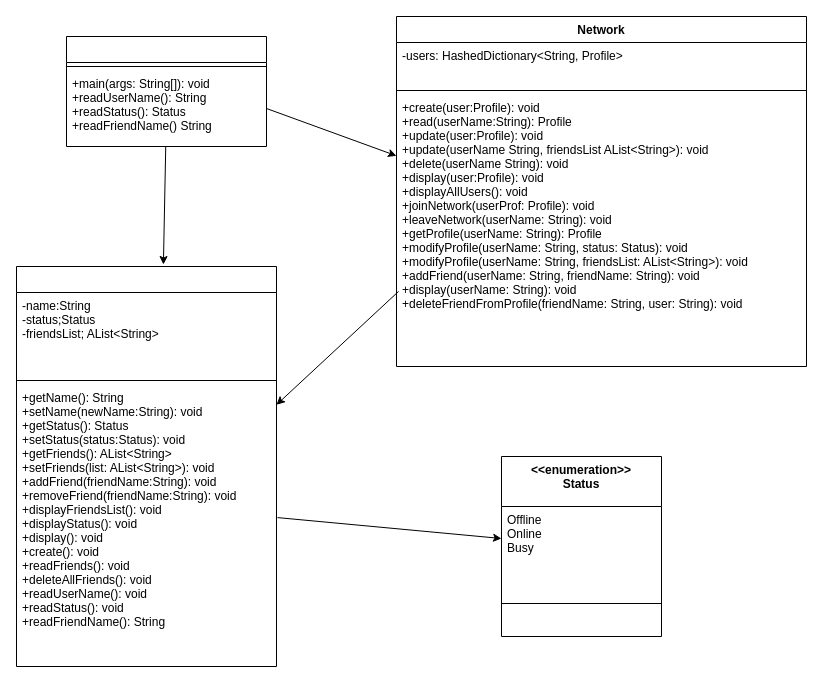
The diagram is 823 pixels wide and 683 high, and some of its shapes have lost their labels. The shapes that lost their labels are listed below. From the top down, each one's box as (x1, y1, x2, y2) in pixels, then its label:
(66, 36, 266, 146): SocialNetwork
(16, 266, 276, 666): Profile
